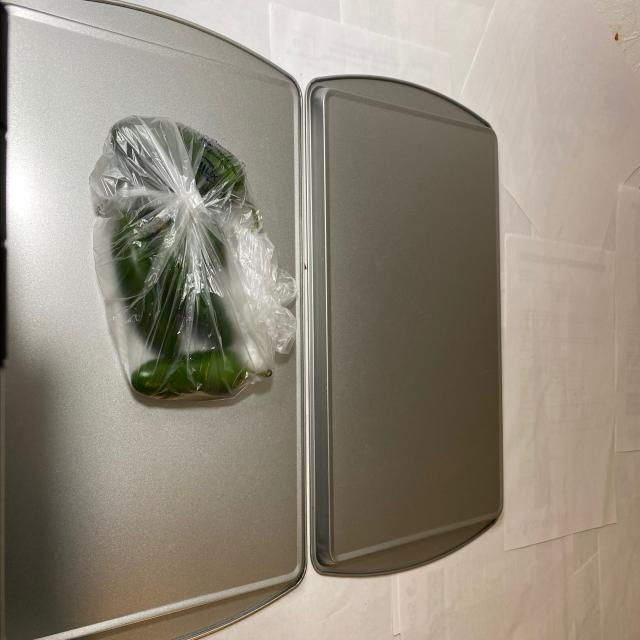chilli: (95, 116, 274, 409)
